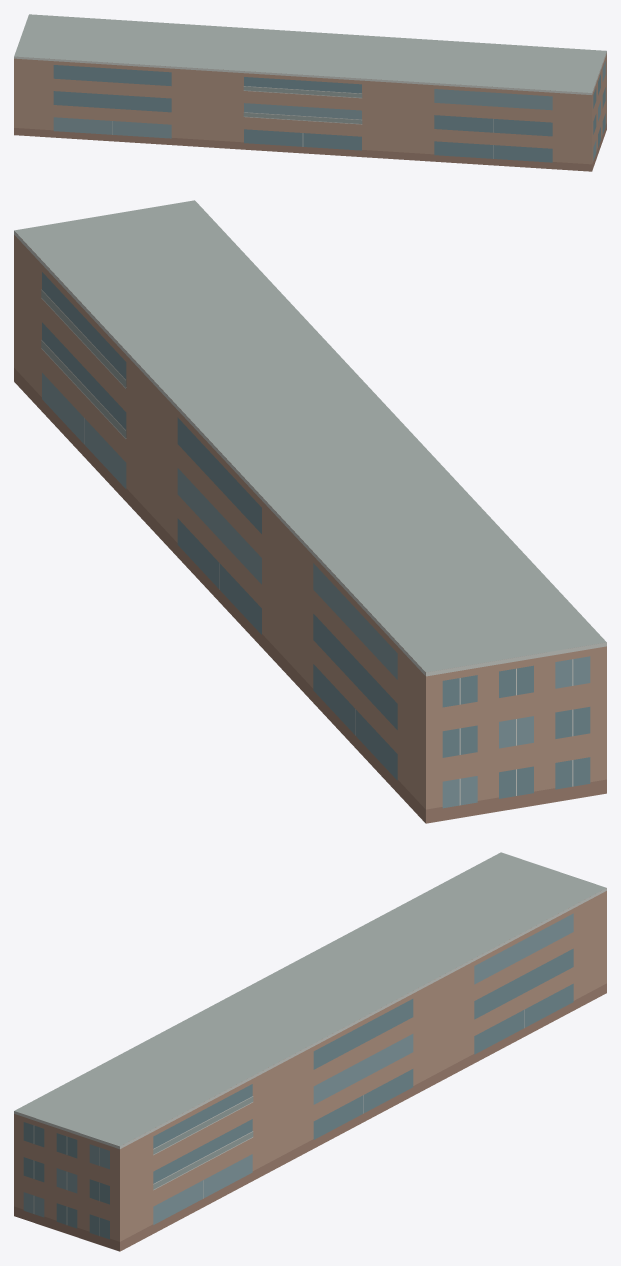
File: residential-3b421f54-ae47-4bbe-b90d-fec9a95cf4ea.glb
3 views of the same model, one above another, from view 1: azimuth 30°, elevation 25°; view 2: azimuth 150°, elevation 25°; view 3: azimuth 270°, elevation 25° (orthographic). The views are drawn at different scales.
Parts seen in each view (by area): view 1: residential-3b421f54-ae47-4bbe-b90d-fec9a95cf4ea.tmp; view 2: residential-3b421f54-ae47-4bbe-b90d-fec9a95cf4ea.tmp; view 3: residential-3b421f54-ae47-4bbe-b90d-fec9a95cf4ea.tmp.
Boxes of the visible parts, x1,y1,x2,y2 form: residential-3b421f54-ae47-4bbe-b90d-fec9a95cf4ea.tmp: (14, 14, 606, 171); residential-3b421f54-ae47-4bbe-b90d-fec9a95cf4ea.tmp: (14, 200, 606, 823); residential-3b421f54-ae47-4bbe-b90d-fec9a95cf4ea.tmp: (14, 852, 606, 1251).
Bounding box in the file's own units: 54.9 × 9.15 × 46.75.
